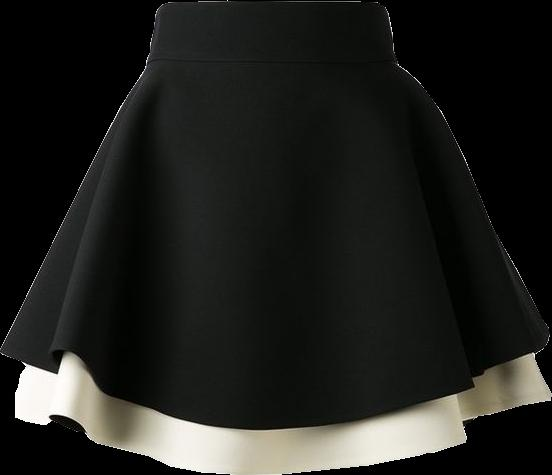Hemline: (0, 331, 551, 429), (10, 395, 551, 474)
Waistline: (153, 0, 380, 14), (144, 55, 397, 65)
